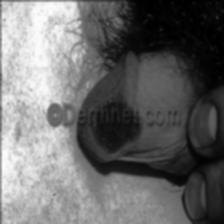Toxin: (90, 128, 144, 154), (95, 93, 133, 106)
